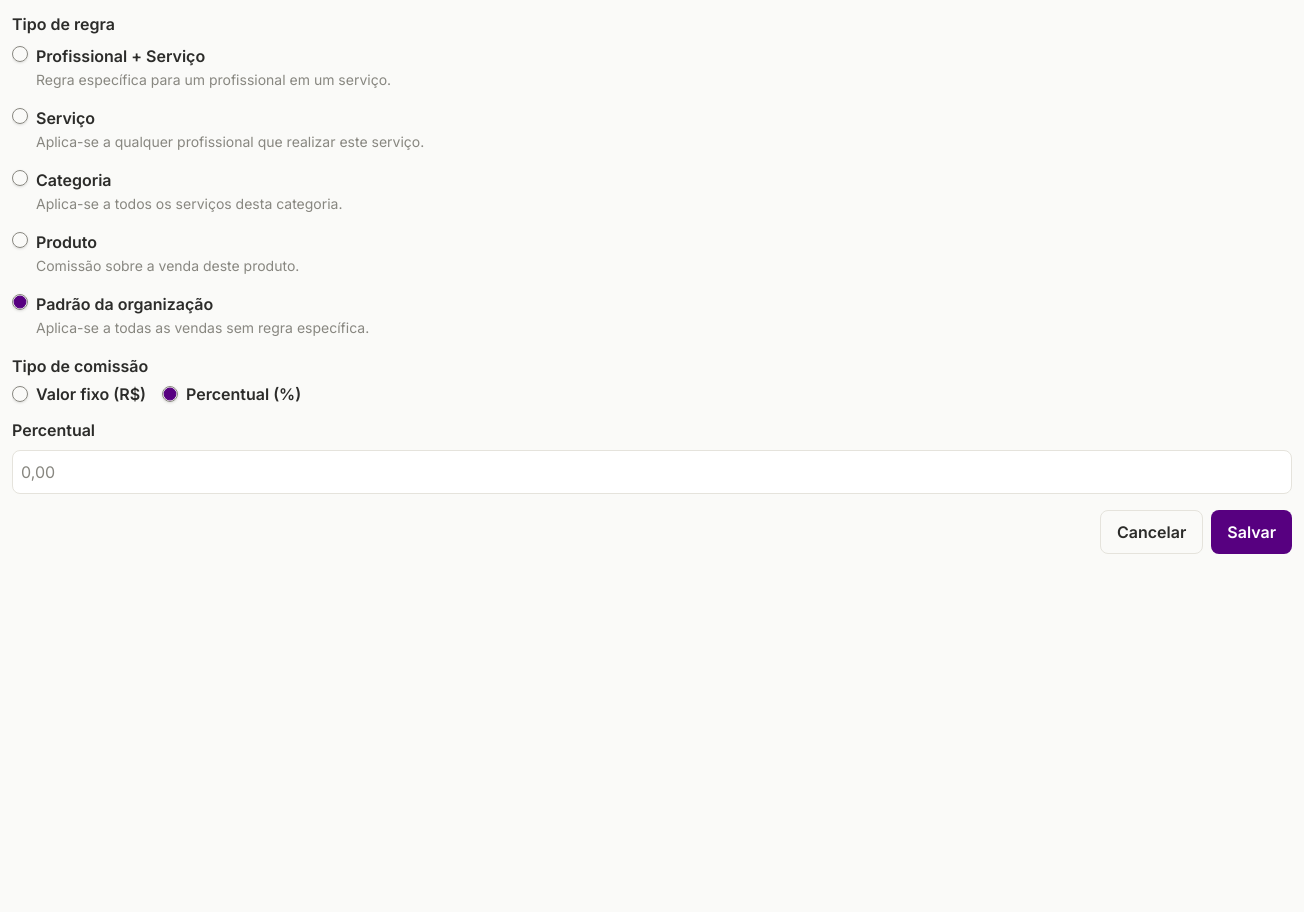
it: CommissionRuleForm › 3. selecting scope member_service — both member AND service combobox visible
Click the radio button named "profissional + serviço" next to "Profissional + Serviço".
click(20, 54)  # box [12,46,28,62]
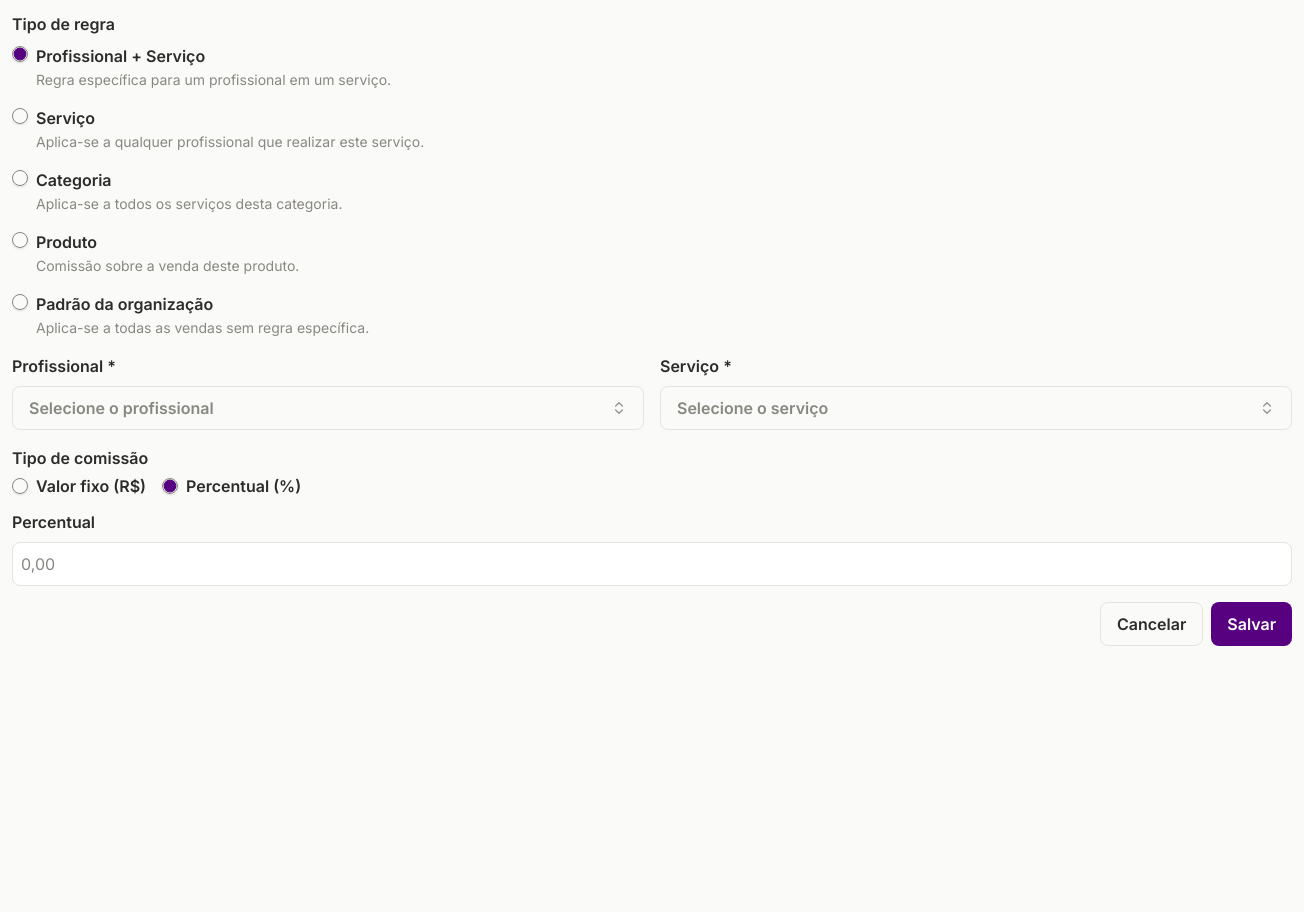
Now the text "Selecione o profissional" is shown, box [29,396,214,420]
Now the text "Selecione o serviço" is shown, box [677,396,828,420]
